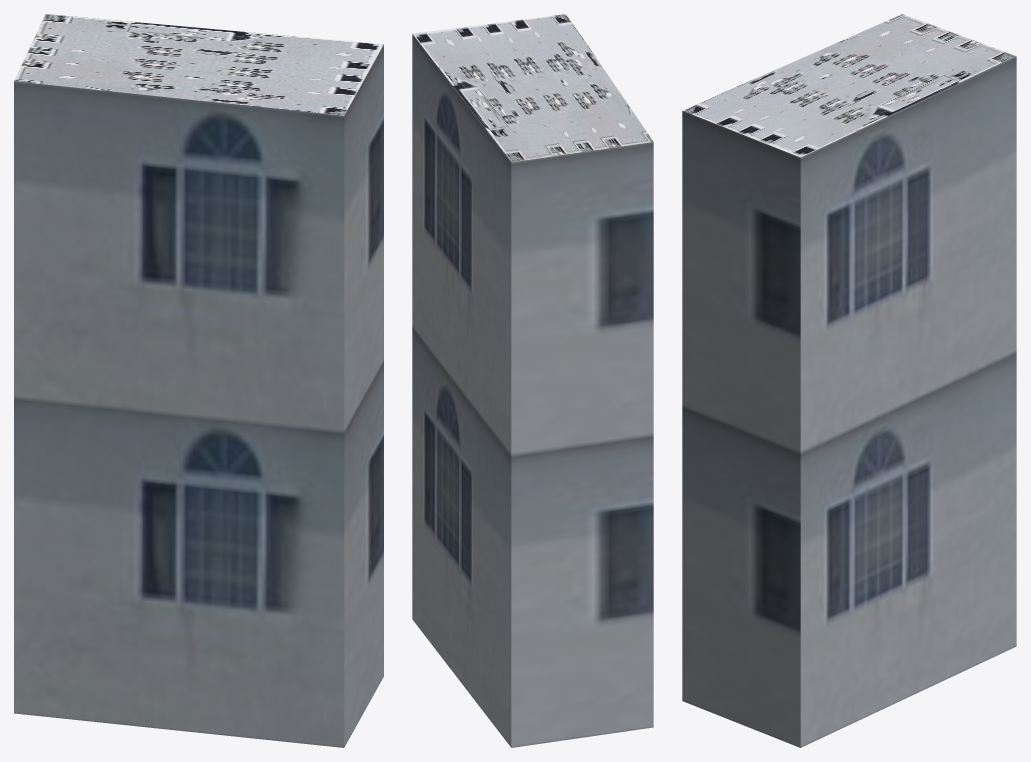
File: ResTex__3397.fbx
3 views of the same model, side by side, from view 1: azimuth 30°, elevation 25°; view 2: azimuth 150°, elevation 25°; view 3: azimuth 270°, elevation 25° (orthographic). The views are drawn at different scales.
Visible parts, largest first — view 1: CityEngineMaterial_17_m, CityEngineMaterial_2_m; view 2: CityEngineMaterial_17_m, CityEngineMaterial_2_m; view 3: CityEngineMaterial_17_m, CityEngineMaterial_2_m.
Part boxes in pixels (bbox=[...]): CityEngineMaterial_17_m: bbox=[14, 44, 383, 747]; CityEngineMaterial_2_m: bbox=[14, 14, 383, 115]; CityEngineMaterial_17_m: bbox=[412, 34, 653, 747]; CityEngineMaterial_2_m: bbox=[412, 14, 653, 162]; CityEngineMaterial_17_m: bbox=[682, 56, 1016, 747]; CityEngineMaterial_2_m: bbox=[683, 14, 1016, 157].
Bounding box in the file's own units: 3.13 × 6 × 3.08.
2 materials, 2 textured.
